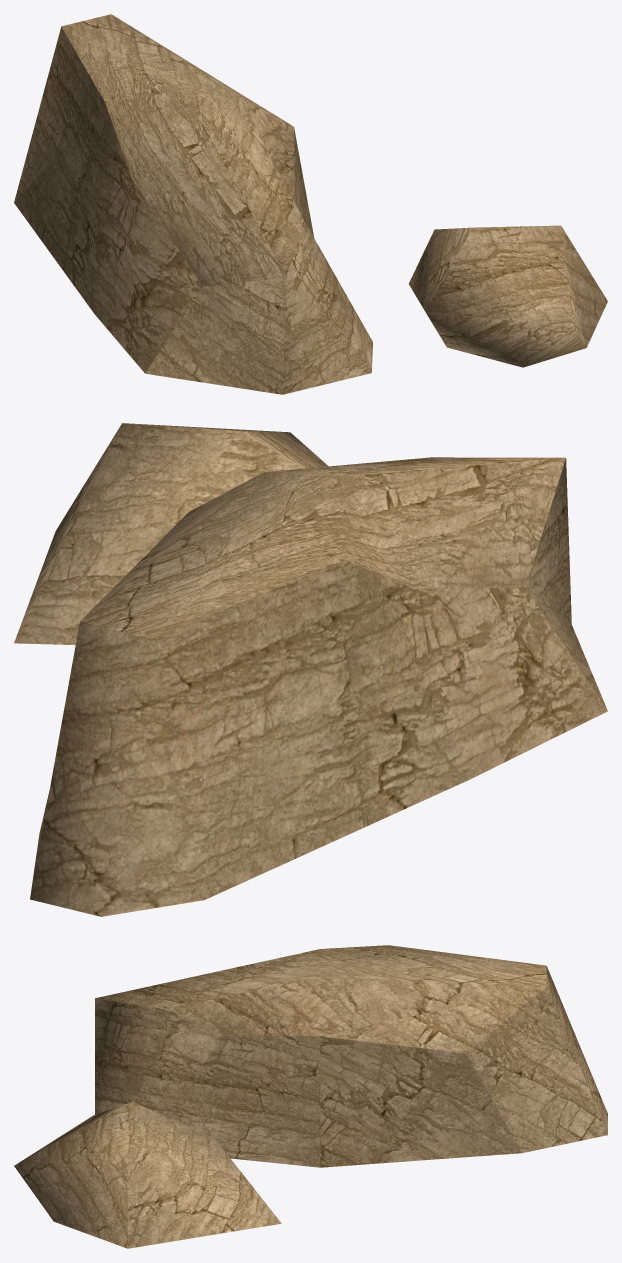
File: mine_stonemine_desert_small.glb
The picture shows the model from 3 angles, top to bottom: view 1: azimuth 30°, elevation 25°; view 2: azimuth 150°, elevation 25°; view 3: azimuth 270°, elevation 25°; orthographic projection. The views are drawn at different scales.
Visible parts, largest first — view 1: mine_stonemine_desert_small_part0; view 2: mine_stonemine_desert_small_part0; view 3: mine_stonemine_desert_small_part0.
Boxes of the visible parts, <box> form: mine_stonemine_desert_small_part0: <box>14,14,607,394</box>; mine_stonemine_desert_small_part0: <box>14,423,607,916</box>; mine_stonemine_desert_small_part0: <box>14,945,607,1248</box>.
Bounding box in the file's own units: 1.4 × 0.6069 × 1.93.
Materials: 1 (1 with a texture image).
